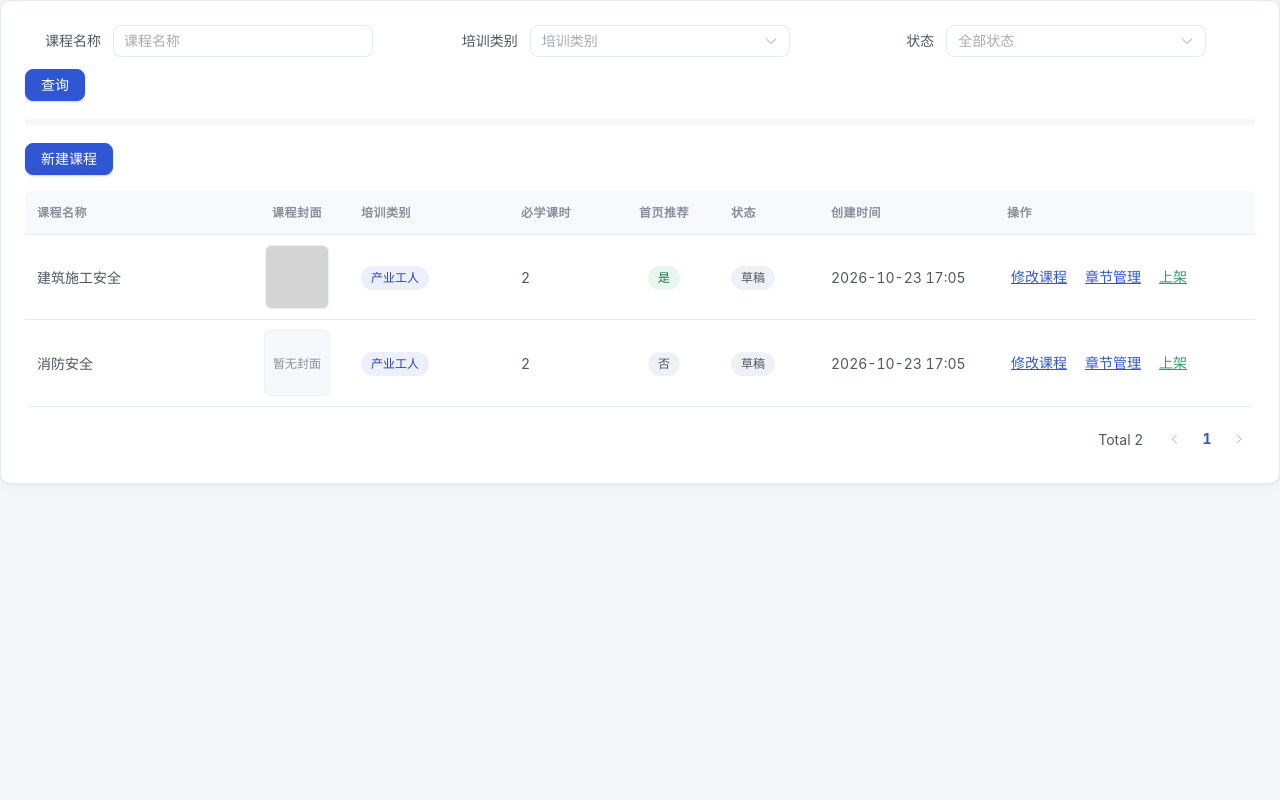
Test case: course presentation › blocks a stale 修改课程 entry when the latest detail is already published
Click the button "修改课程" in the row of "建筑施工安全": (1039, 277) 1007,268 -> 1071,286
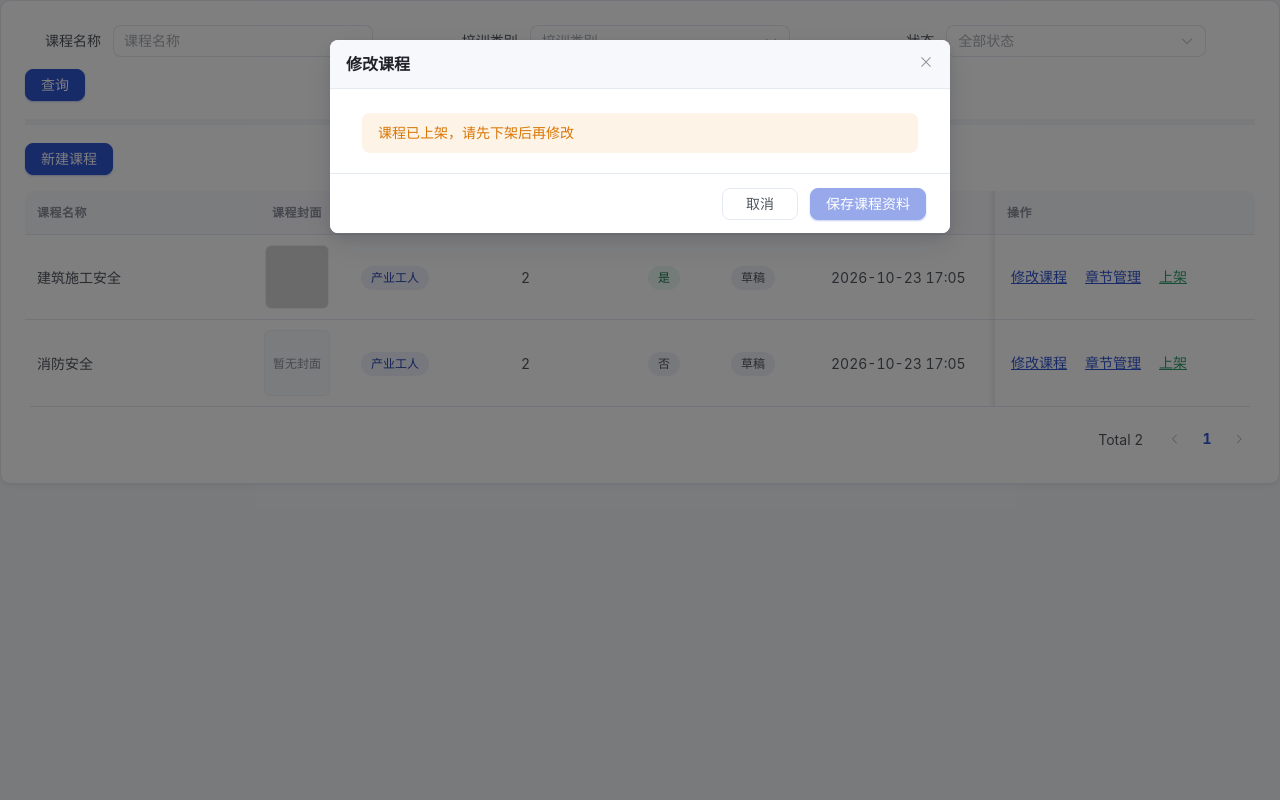
Result: the element that starts with "课程名称" shows "请先下架后再修改" at 378,124 -> 574,141
Result: the button "保存课程资料" is disabled at 810,188 -> 926,220
